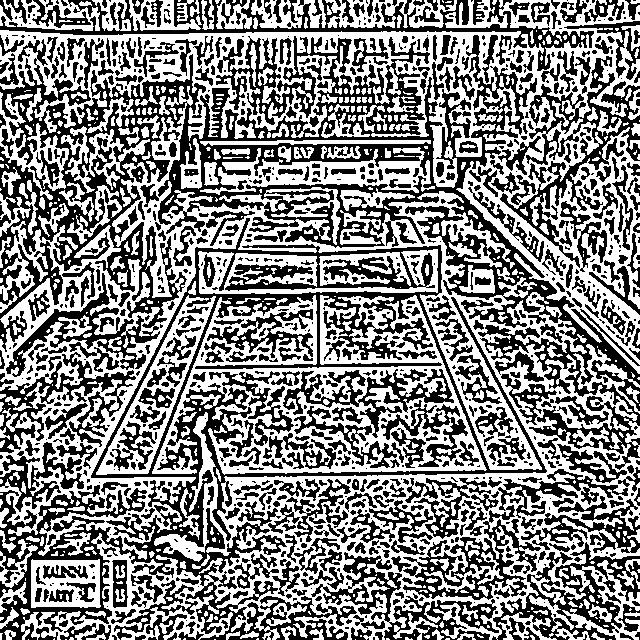left side: (387, 218, 545, 472), (93, 219, 248, 476)
player: (183, 412, 233, 571), (329, 187, 342, 250)
